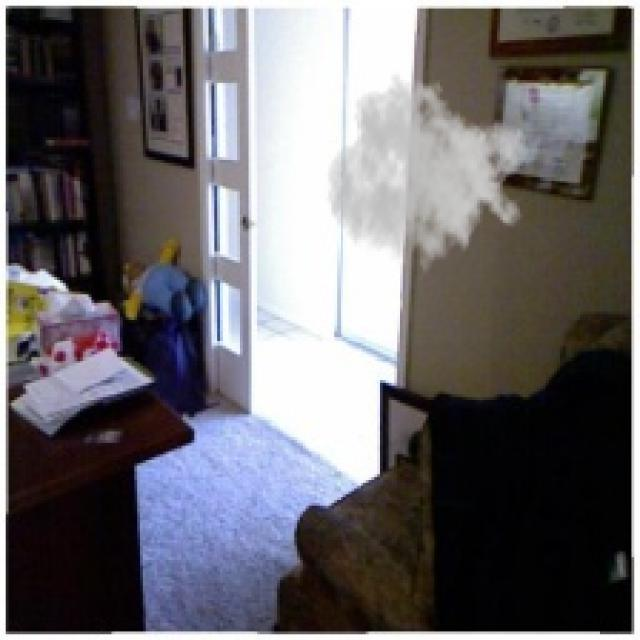Smoke: (326, 71, 532, 286)
